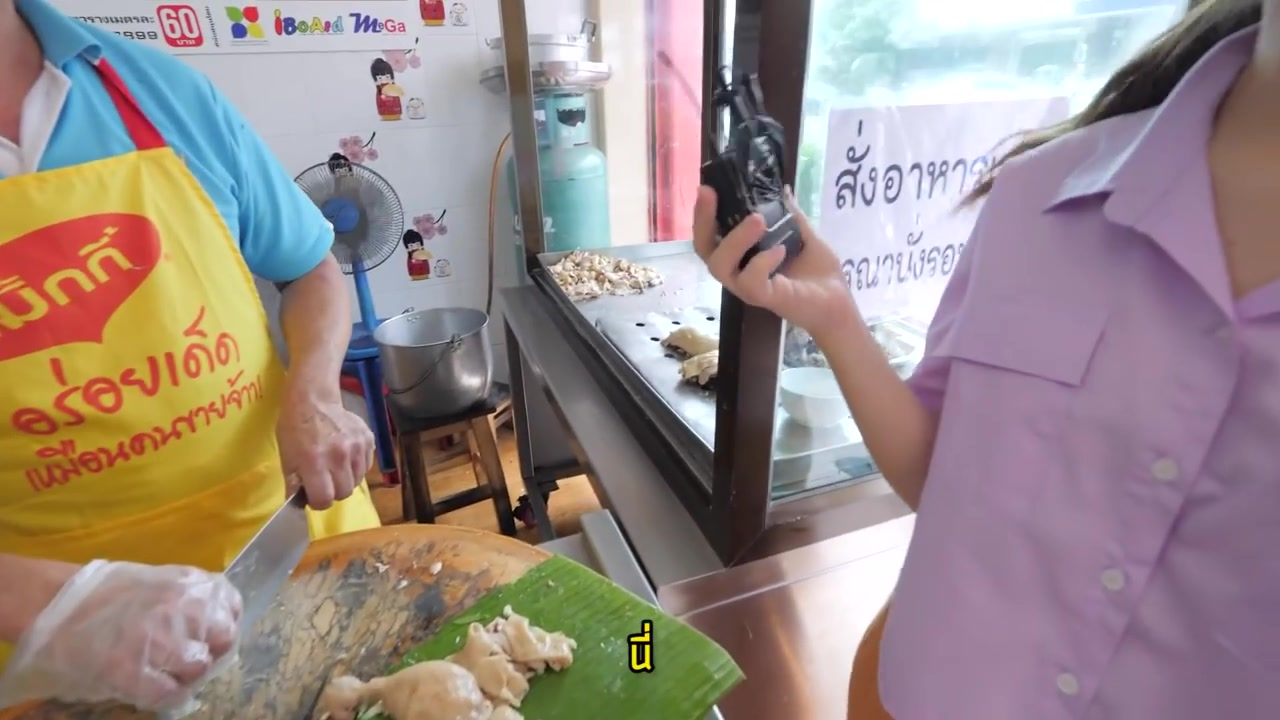text-label: (622, 612, 656, 679)
